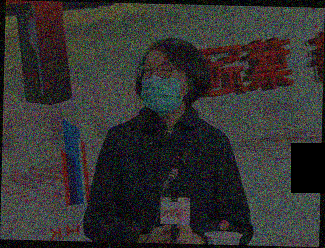with_mask: (137, 59, 187, 117)
